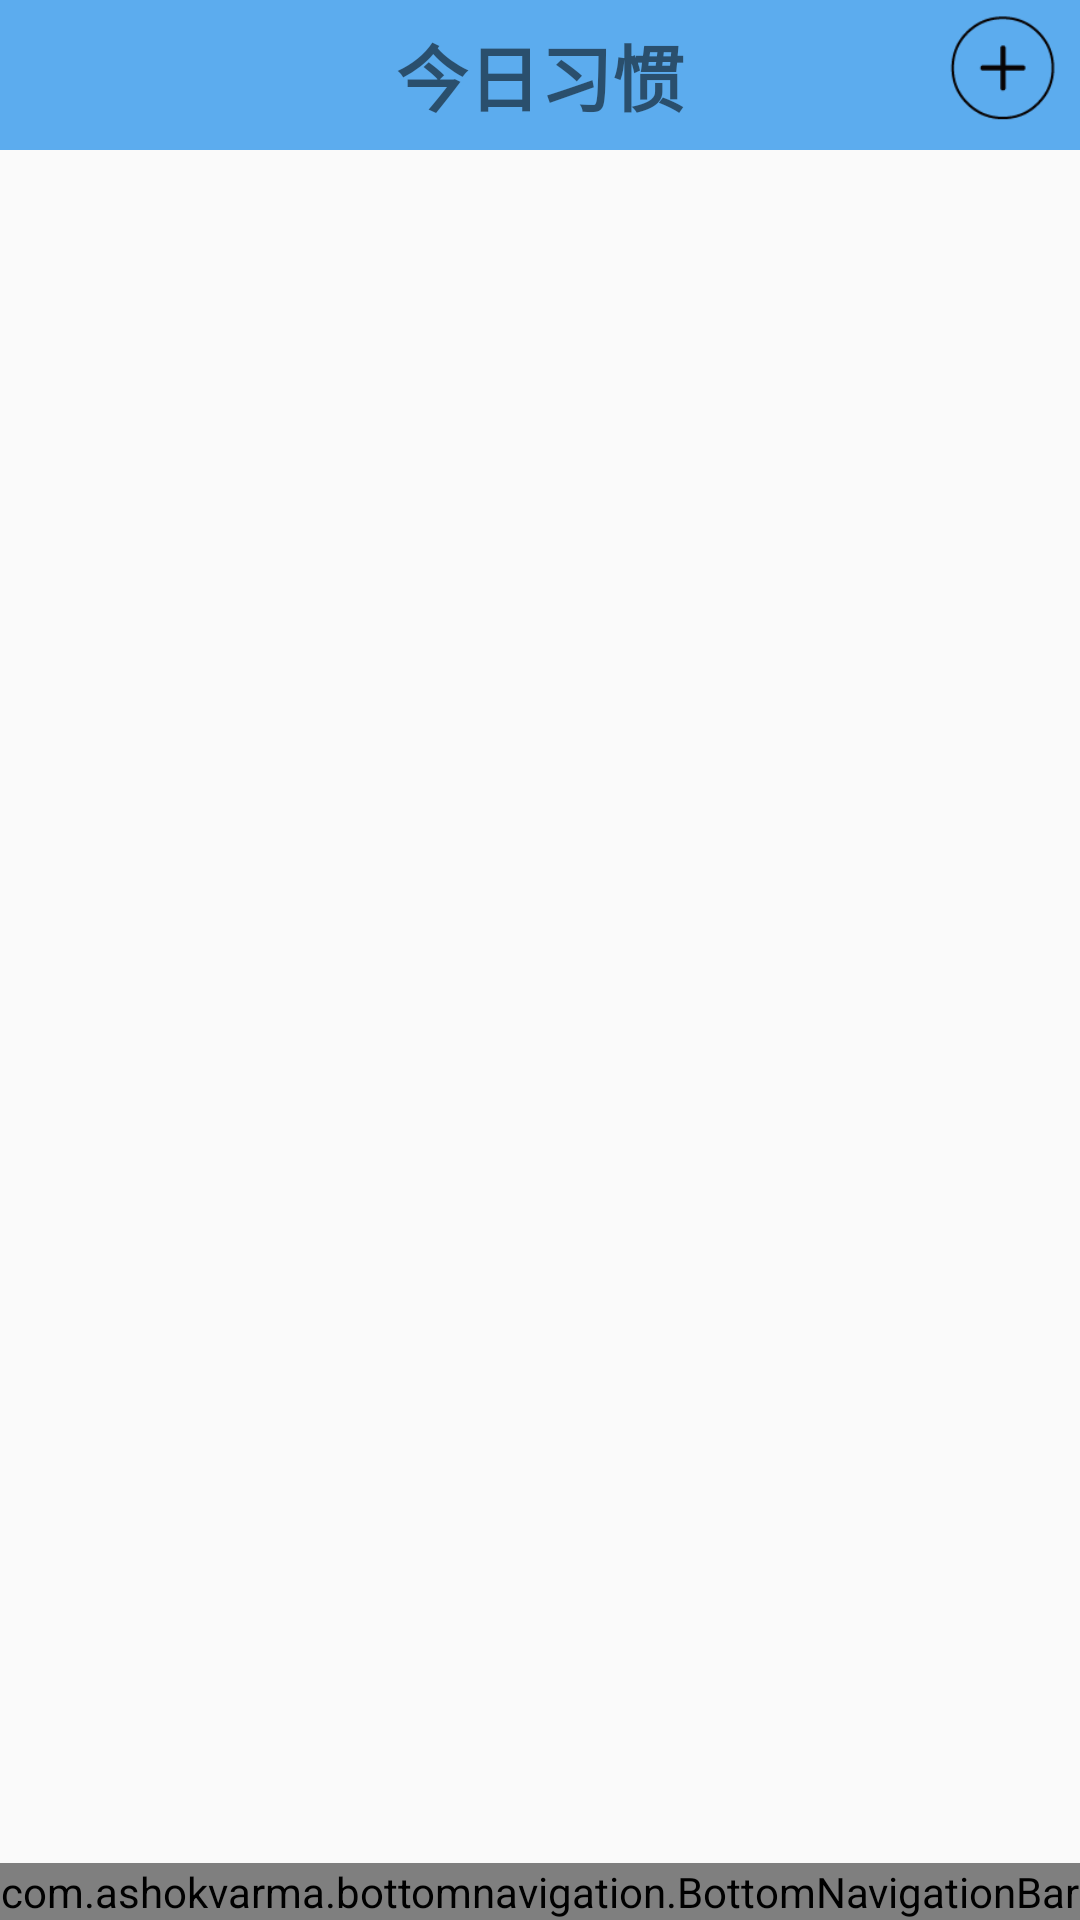

Point at icon controls on the screen. Image size 1080w x 1920h, points as point (x, y).
addhabit: point (1002, 68)
